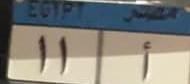1: (29, 34, 48, 84), (55, 37, 78, 78)
أ: (134, 34, 159, 82)
